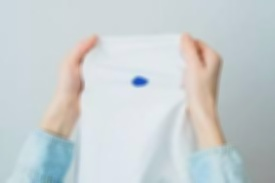ink: (131, 77, 149, 86)
